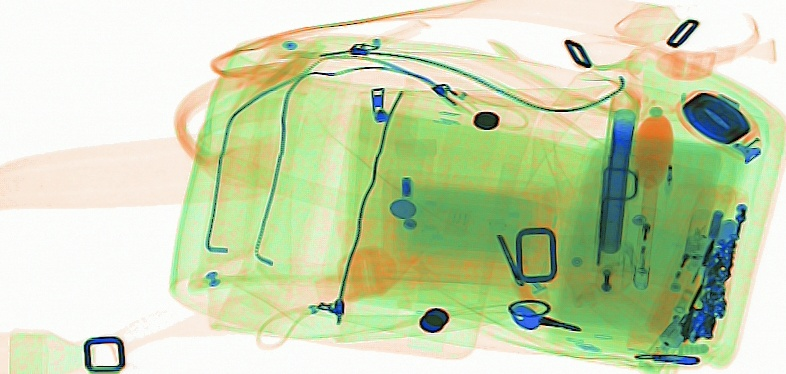lighter: (665, 212, 713, 300), (630, 173, 658, 291)
